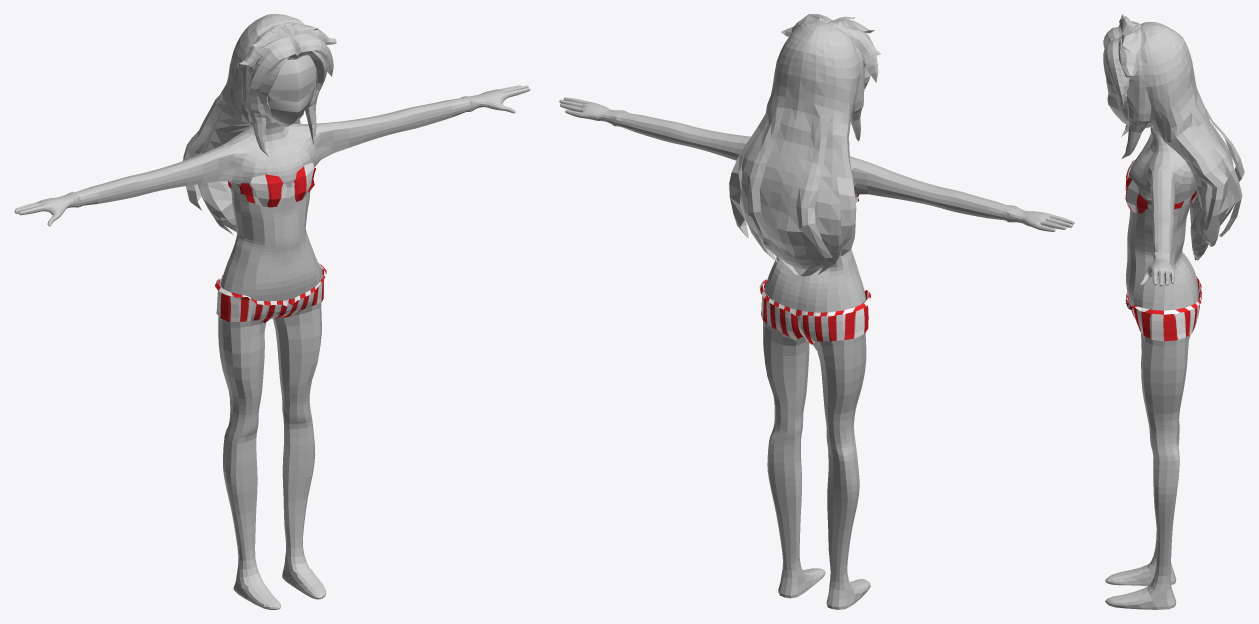
The model's file is Da caricare.FBX.
The picture shows the model from 3 angles, left to right: view 1: azimuth 30°, elevation 25°; view 2: azimuth 150°, elevation 25°; view 3: azimuth 270°, elevation 25°; orthographic projection.
Visible parts, largest first — view 1: Parte sotto, surface_009_ref_0, Testa, Object002, Object001; view 2: Parte sotto, surface_009_ref_0, Object002; view 3: Parte sotto, surface_009_ref_0, Object002, Object001, Testa.
Boxes of the visible parts, x1,y1,x2,y2 form: Parte sotto: (14,85,530,609); surface_009_ref_0: (183,14,336,234); Testa: (263,55,316,126); Object002: (215,263,326,322); Object001: (228,163,315,207); Parte sotto: (559,97,1074,609); surface_009_ref_0: (729,14,880,276); Object002: (759,278,870,344); Parte sotto: (1105,126,1198,609); surface_009_ref_0: (1103,14,1244,260); Object002: (1125,276,1201,341); Object001: (1125,159,1197,213); Testa: (1106,79,1152,128).
Bounding box in the file's own units: 207 × 220 × 49.63.
